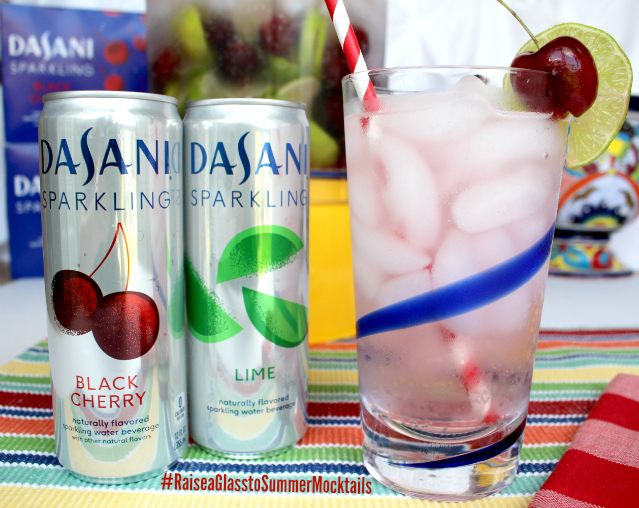blackcherry: (43, 214, 165, 414)
lime: (183, 213, 310, 393)
